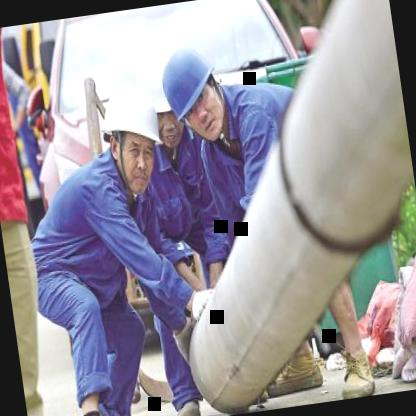helmet: (148, 31, 233, 153), (92, 76, 168, 194), (134, 35, 192, 150)
